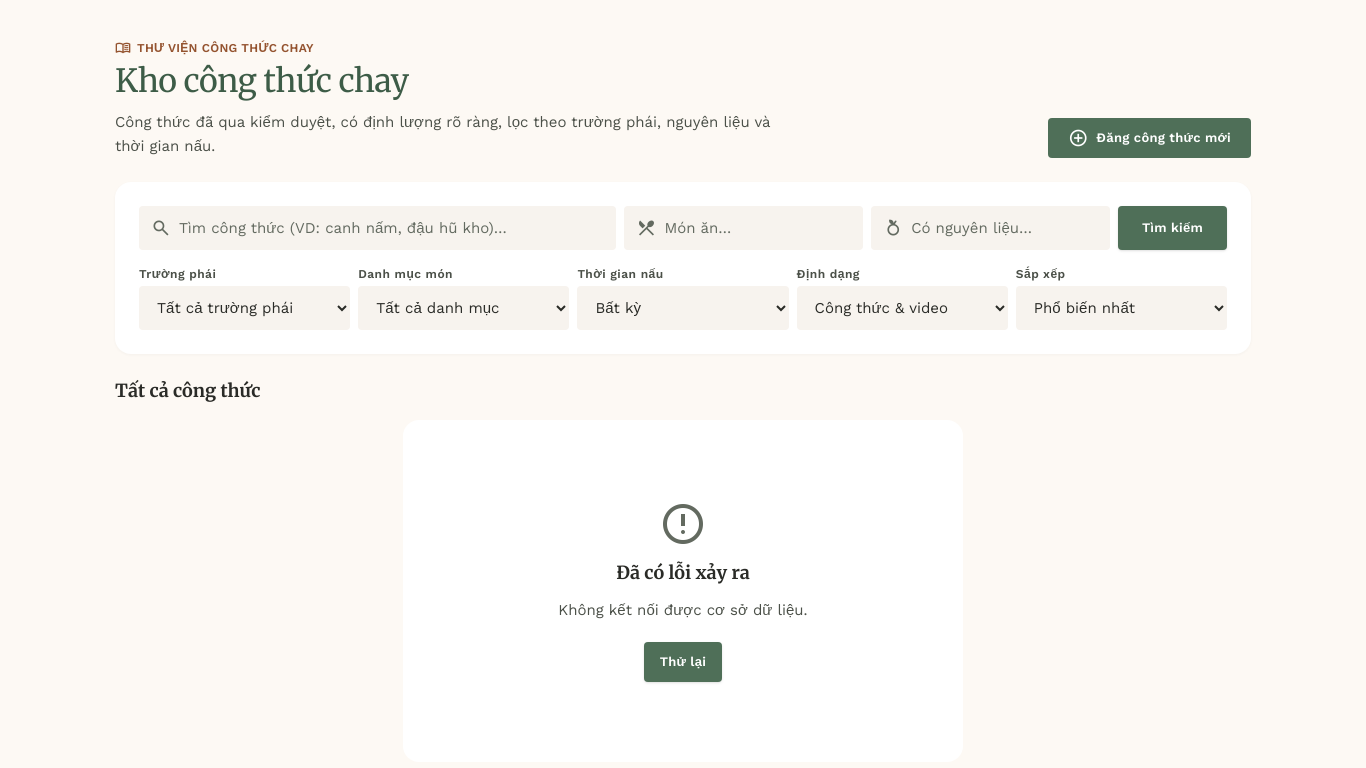
it: RecipeList (SCR-11) › lỗi 500 hiện trạng thái lỗi và thử lại được
Check: the text "Không kết nối được cơ sở dữ liệu." is shown, box [558, 598, 808, 622]
Click the button "Thử lại" at (683, 662), box [644, 642, 722, 682]
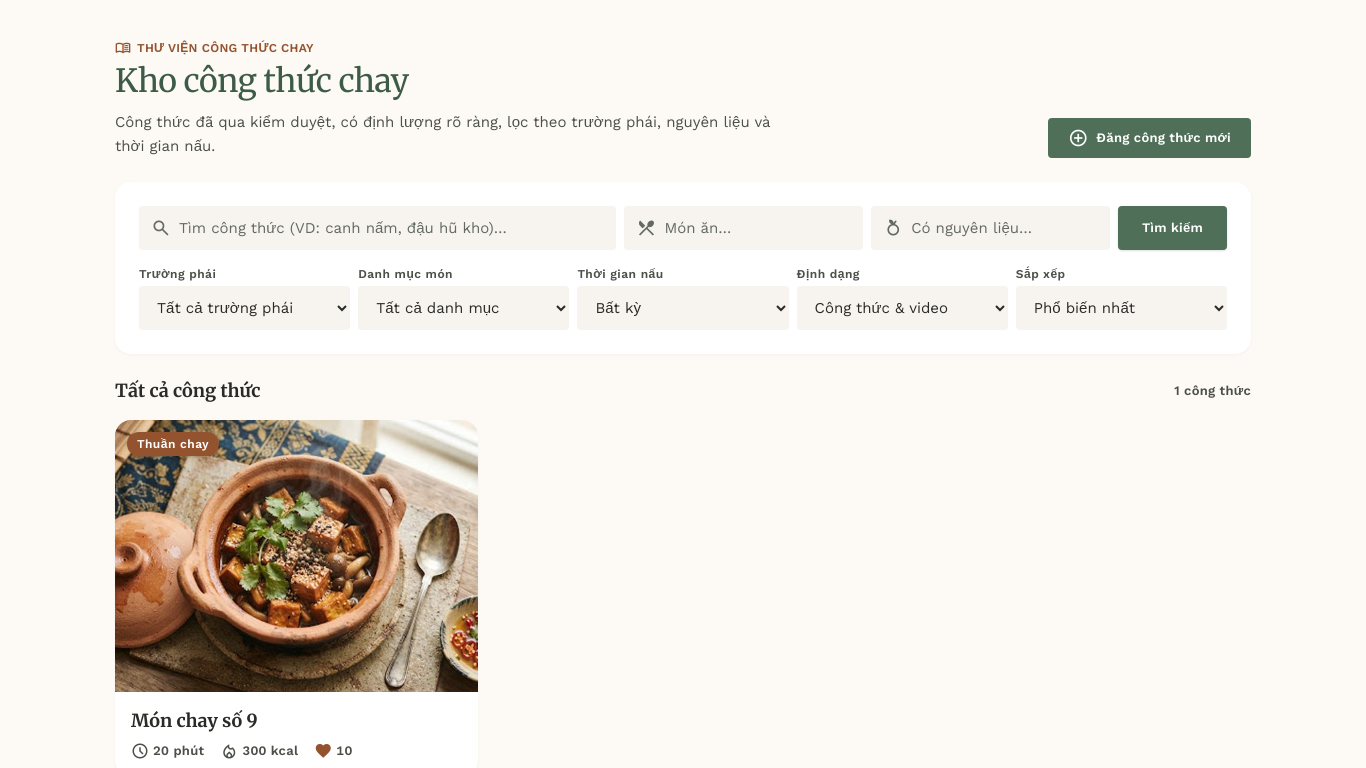
Check: the link "Món chay số 9" is shown, box [131, 709, 258, 732]
